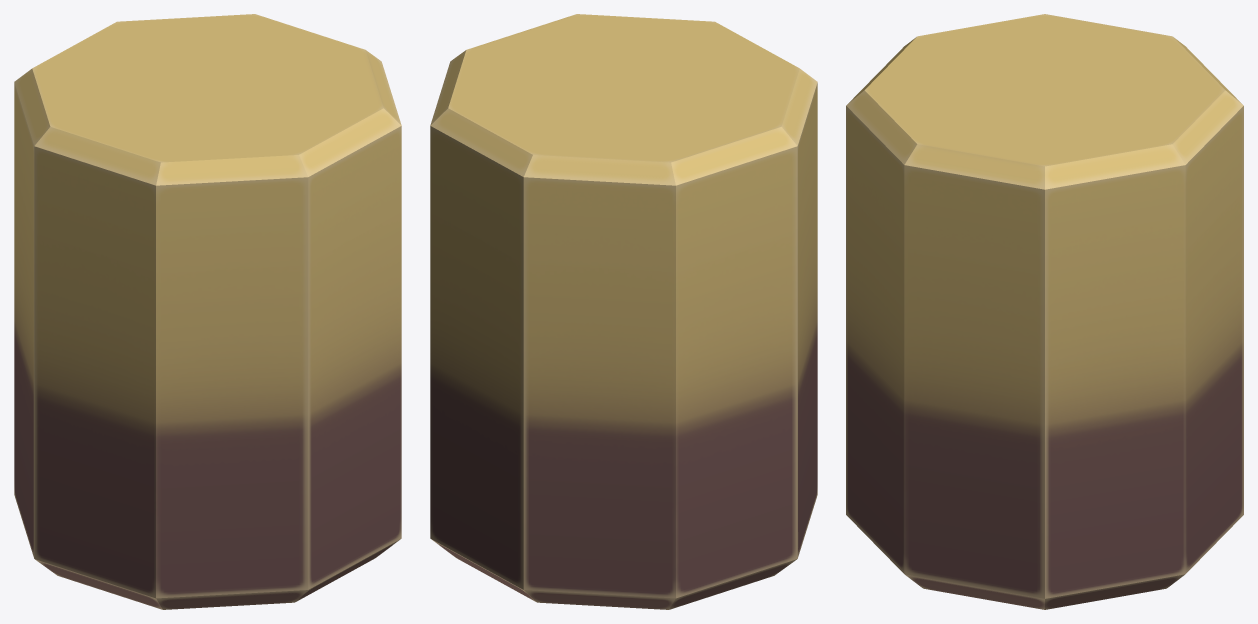
The model's file is Bottle_02_Cork.fbx.
3 renders of one model, left to right at view 1: azimuth 30°, elevation 25°; view 2: azimuth 150°, elevation 25°; view 3: azimuth 270°, elevation 25°, orthographic.
Visible parts, largest first — view 1: Bottle_02.002; view 2: Bottle_02.002; view 3: Bottle_02.002.
Part boxes in pixels (<box>): Bottle_02.002: <box>14,14,401,609</box>; Bottle_02.002: <box>430,14,817,609</box>; Bottle_02.002: <box>846,14,1243,609</box>.
Bounding box in the file's own units: 6.82 × 6.82 × 8.45.
Materials: 1 (1 with a texture image).
